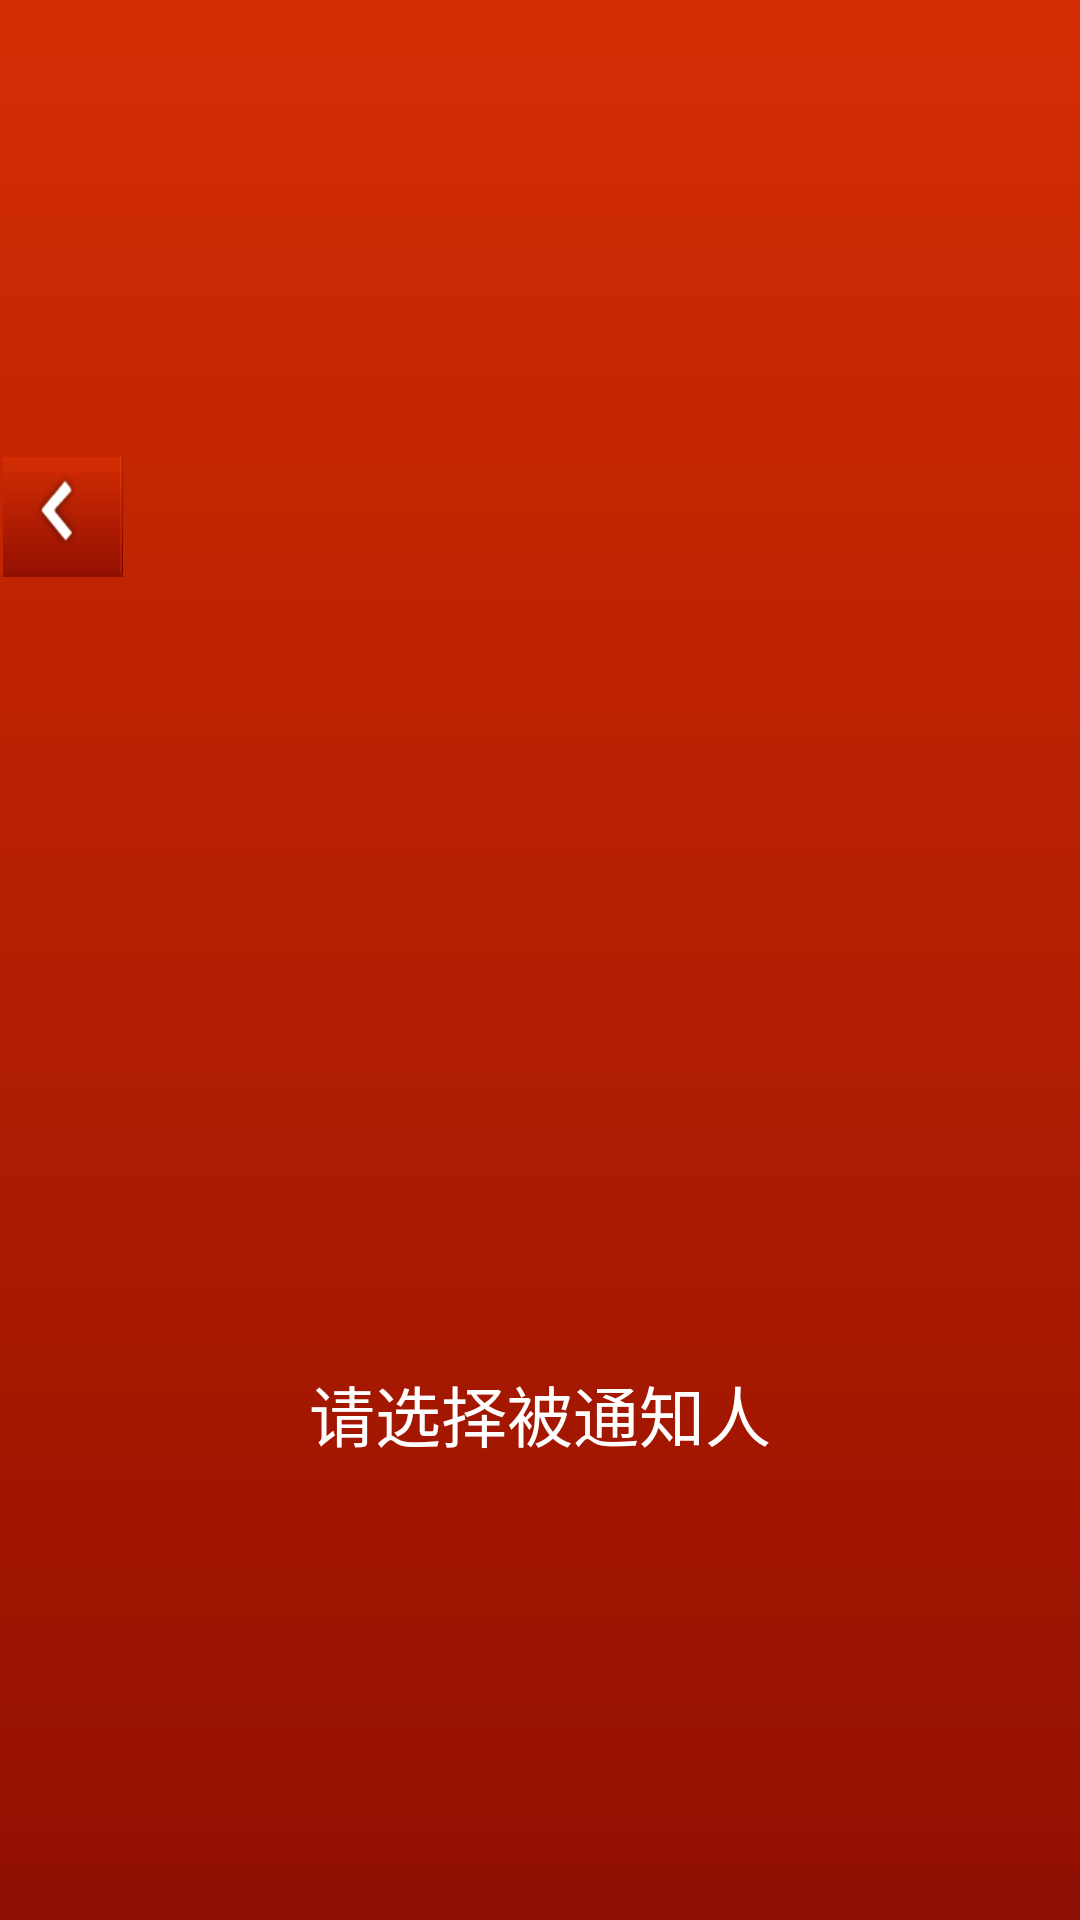

Point at icon controls on the screen. Image size 1080 x 1920, points as (x,y).
title return: (63,517)
